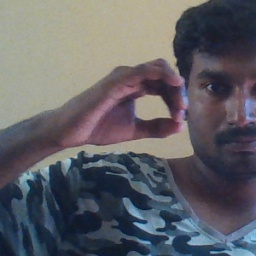O: (65, 50, 188, 150)
